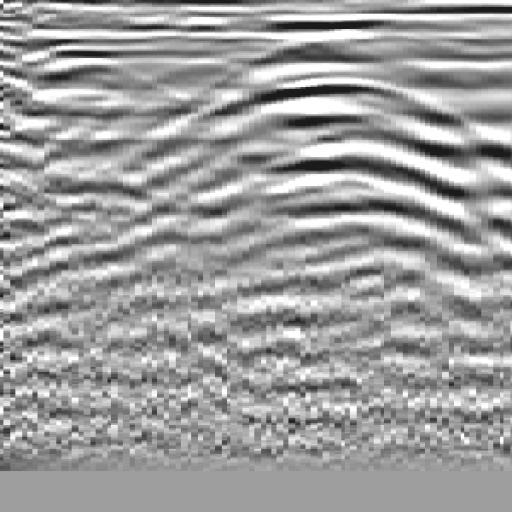non-metallic: (108, 47, 508, 319)
